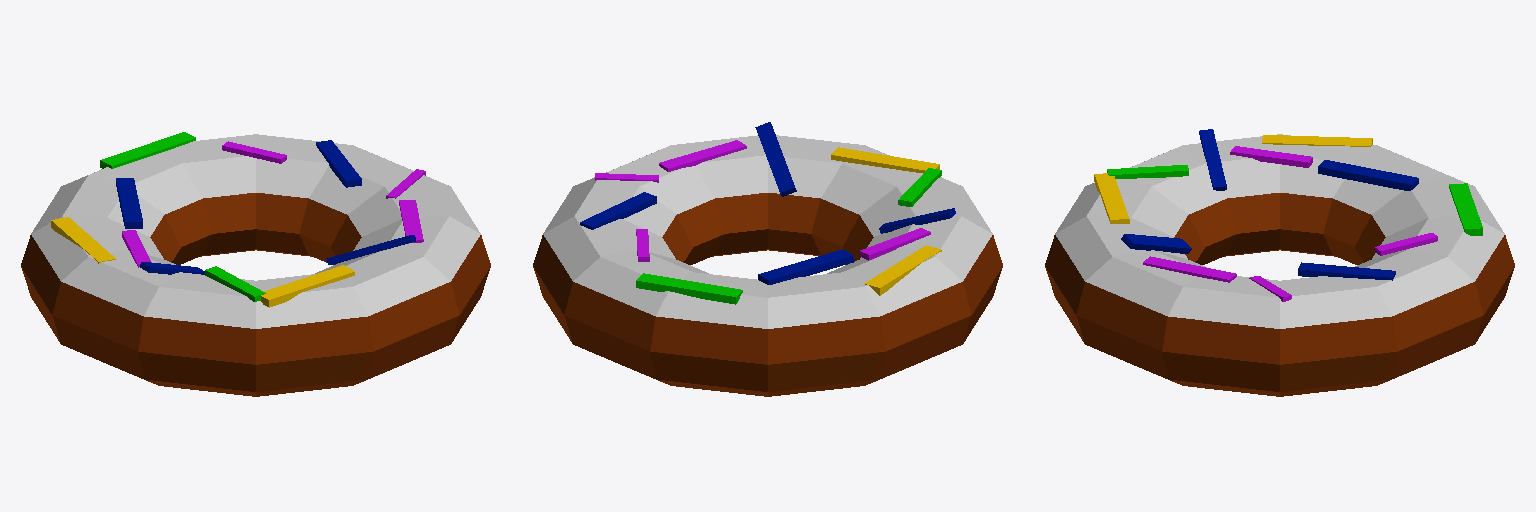
Rendered from Donut.obj.
The picture shows the model from 3 angles: view 1: azimuth 30°, elevation 25°; view 2: azimuth 150°, elevation 25°; view 3: azimuth 270°, elevation 25°; orthographic projection.
Visible parts, largest first — view 1: Donut_Torus.003; view 2: Donut_Torus.003; view 3: Donut_Torus.003.
Part boxes in pixels (bbox=[...]): Donut_Torus.003: bbox=[21, 132, 490, 396]; Donut_Torus.003: bbox=[533, 122, 1002, 396]; Donut_Torus.003: bbox=[1045, 129, 1514, 396].
Bounding box in the file's own units: 0.2529 × 0.0702 × 0.2529.